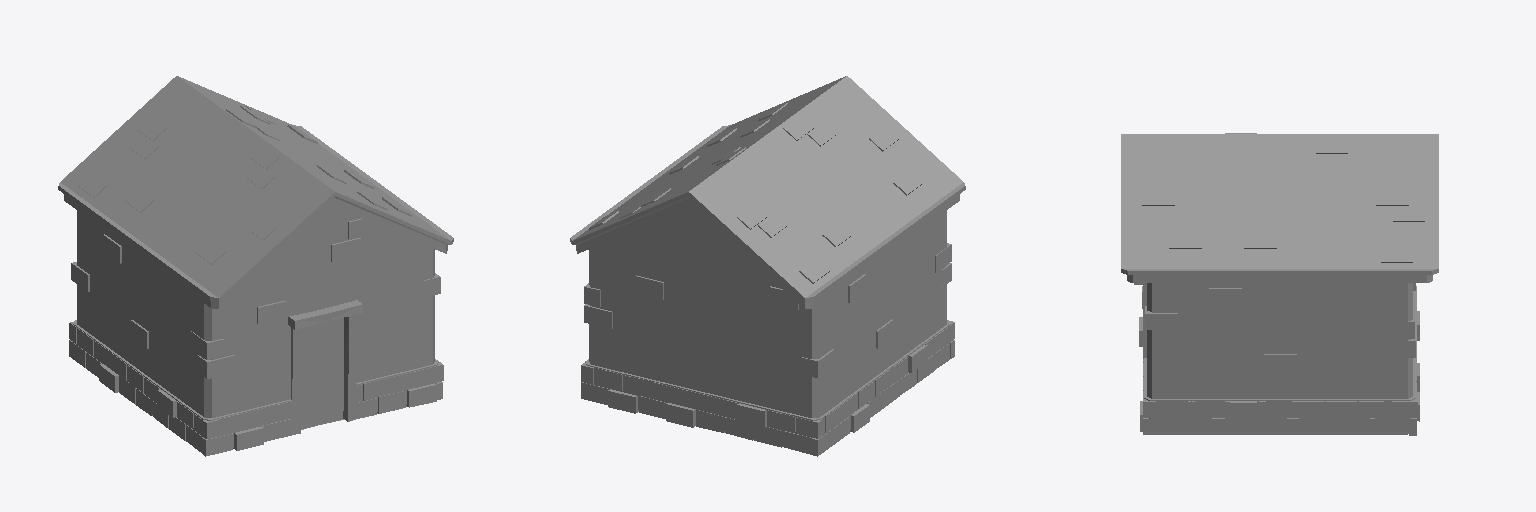
File: 1Story_GableRoof_Base.obj
3 renders of one model, left to right at view 1: azimuth 30°, elevation 25°; view 2: azimuth 150°, elevation 25°; view 3: azimuth 270°, elevation 25°, orthographic.
Parts seen in each view (by area): view 1: 1Story_GableRoof_Base_Cube.054; view 2: 1Story_GableRoof_Base_Cube.054; view 3: 1Story_GableRoof_Base_Cube.054.
Part boxes in pixels (x1,y1,x2,y2): 1Story_GableRoof_Base_Cube.054: (58,76,453,456); 1Story_GableRoof_Base_Cube.054: (570,76,965,456); 1Story_GableRoof_Base_Cube.054: (1121,133,1438,435).
Size of the model in its own units: 2.11 by 2.02 by 2.38.